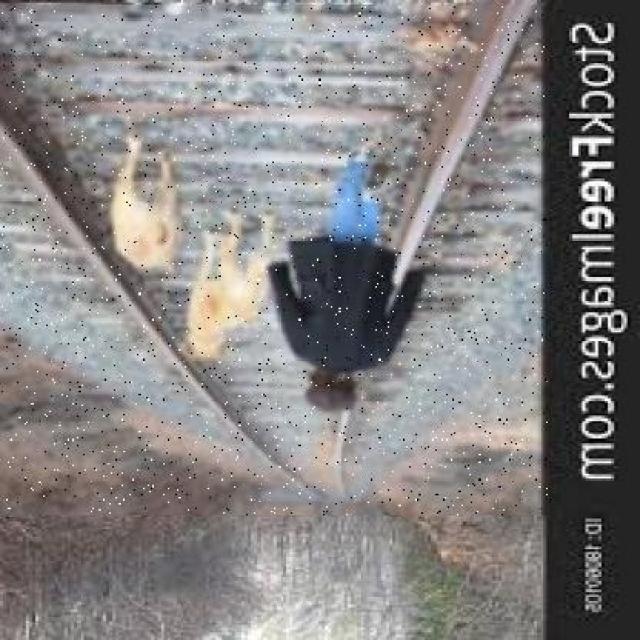danger: (274, 138, 412, 406), (106, 113, 208, 284), (189, 214, 274, 362)
rail: (1, 6, 548, 514)
